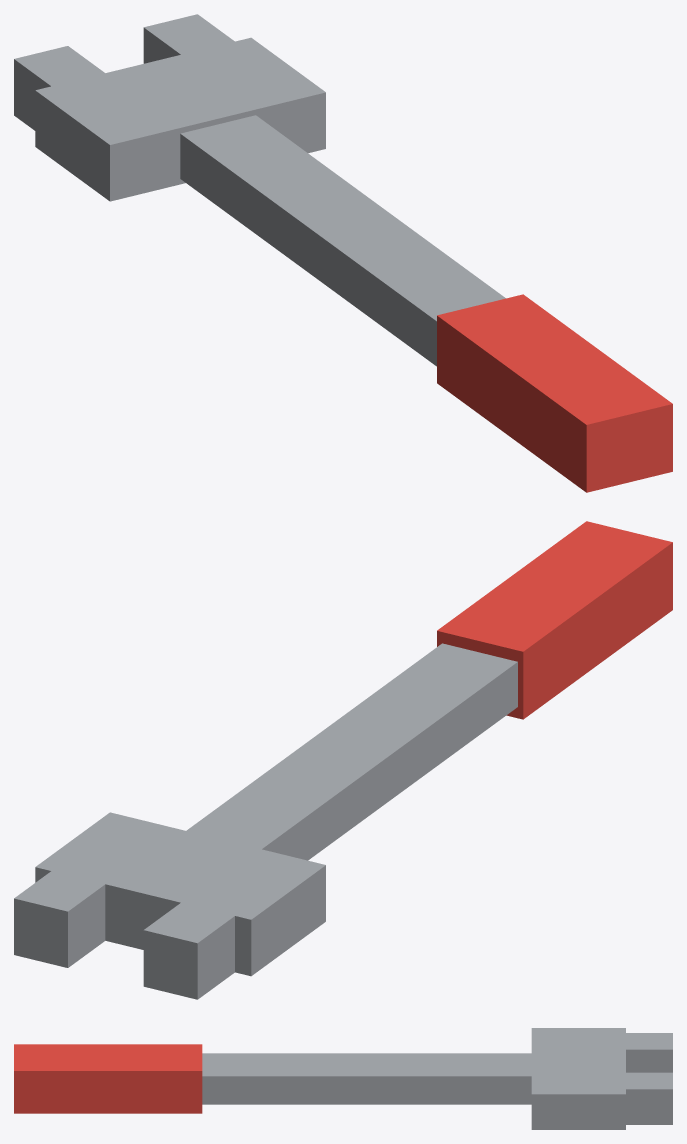
The model's file is wrench_held.gltf.
3 renders of one model, top to bottom at view 1: azimuth 30°, elevation 25°; view 2: azimuth 150°, elevation 25°; view 3: azimuth 270°, elevation 25°, orthographic. The views are drawn at different scales.
Visible parts, largest first — view 1: wrench_held; view 2: wrench_held; view 3: wrench_held.
Boxes of the visible parts, x1,y1,x2,y2 form: wrench_held: (14,14,672,492); wrench_held: (14,521,672,999); wrench_held: (14,1028,672,1129).
Size of the model in its own units: 0.1 by 0.03 by 0.42.
